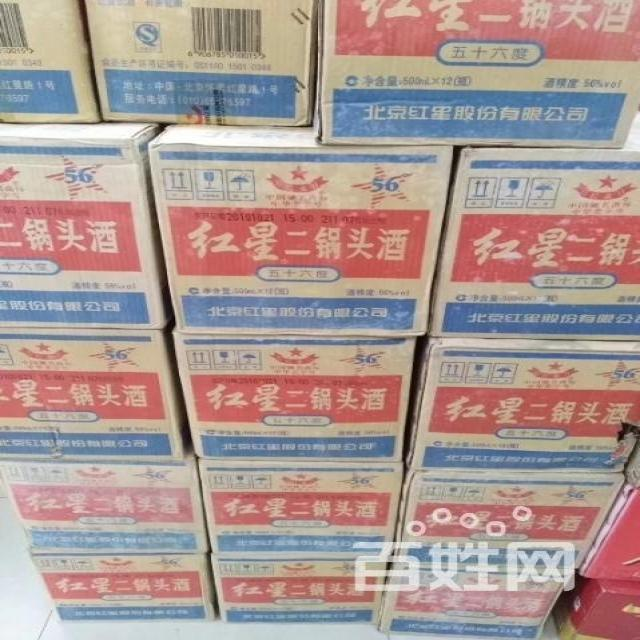box: (146, 124, 453, 337), (428, 109, 640, 341), (314, 0, 640, 149), (1, 120, 172, 330), (172, 325, 416, 461), (405, 338, 639, 474), (82, 0, 318, 127), (1, 327, 191, 460), (393, 470, 627, 568), (1, 447, 210, 554), (195, 460, 404, 561), (379, 563, 579, 639), (29, 552, 218, 623), (211, 554, 393, 625), (579, 438, 639, 581), (553, 575, 640, 639)
